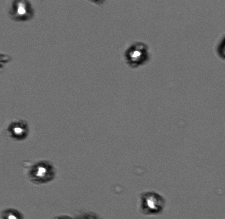Living Cell: (125, 41, 150, 67), (137, 191, 166, 213), (28, 161, 55, 184), (7, 120, 30, 141), (10, 1, 32, 22)
